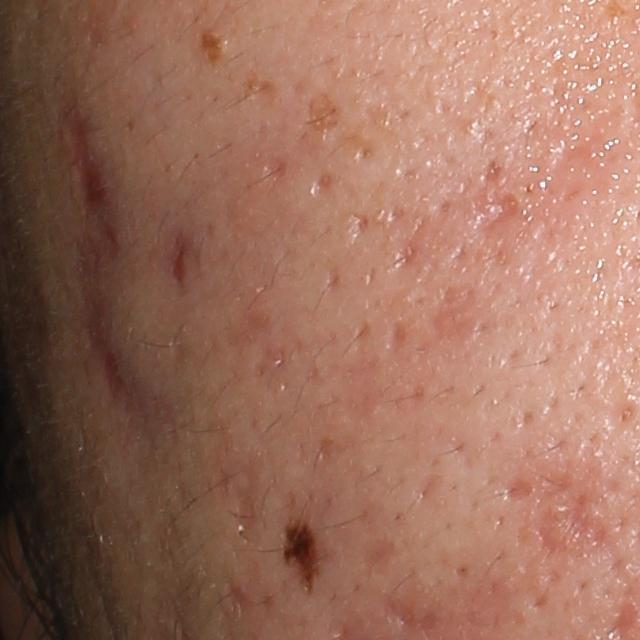atrophic_scar: (55, 64, 185, 448), (509, 460, 621, 566), (205, 418, 264, 541), (378, 192, 466, 274), (327, 318, 386, 432), (471, 156, 526, 251), (432, 281, 481, 351), (374, 594, 452, 635), (167, 225, 197, 292), (352, 536, 392, 580), (405, 472, 443, 507), (220, 575, 252, 615), (347, 212, 370, 253), (324, 256, 344, 299), (260, 155, 290, 183), (385, 316, 406, 355)
melasma: (290, 69, 340, 137), (238, 63, 277, 110), (192, 23, 229, 68)
nevus: (274, 518, 325, 611)
